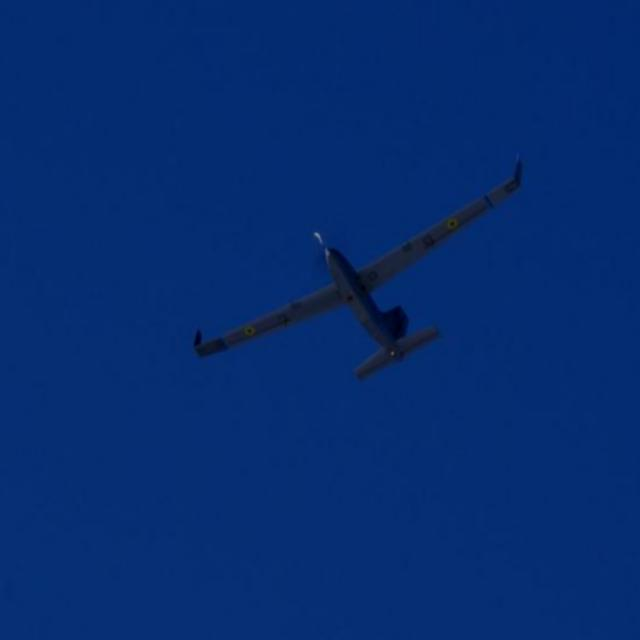plane: (191, 150, 524, 381)
